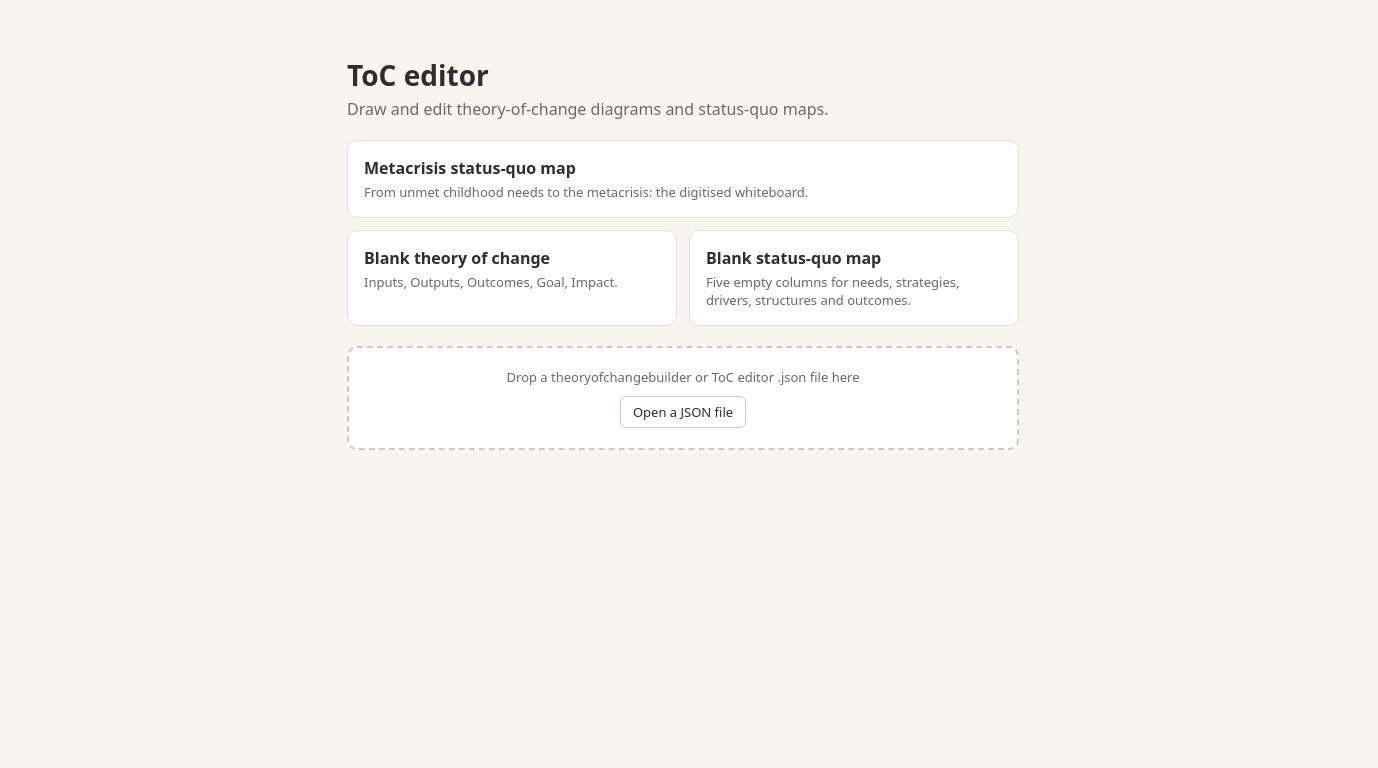
Test case: App: home and editor › leaving the editor shows the edit just made as the draft, and restore brings it back
What coordinates should you click on to do the following:
click the button "Blank theory of change"
I would click on:
 (512, 278)
Its box is [347,230,677,326].
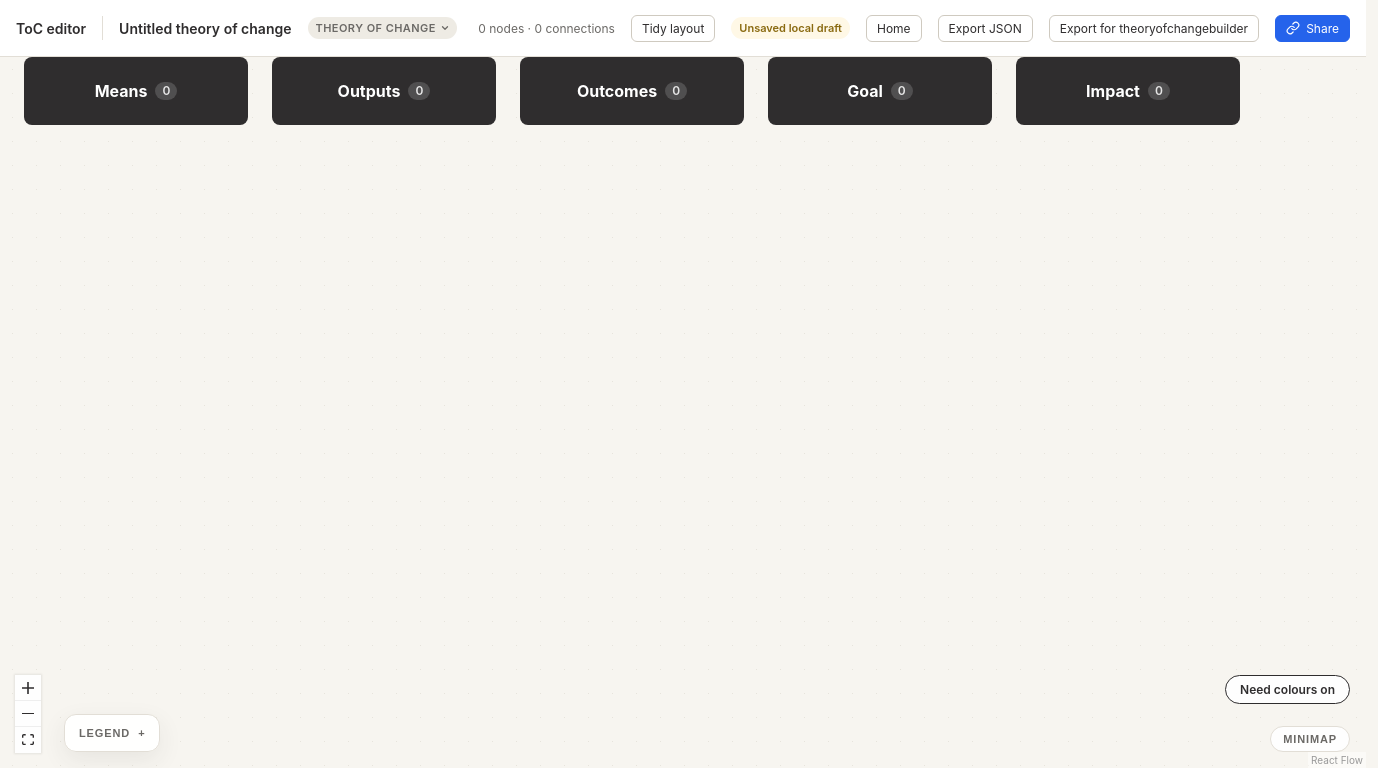
What coordinates should you click on to do the following:
click the button "Home"
I would click on:
 (894, 28)
Its box is [866,14,922,42].
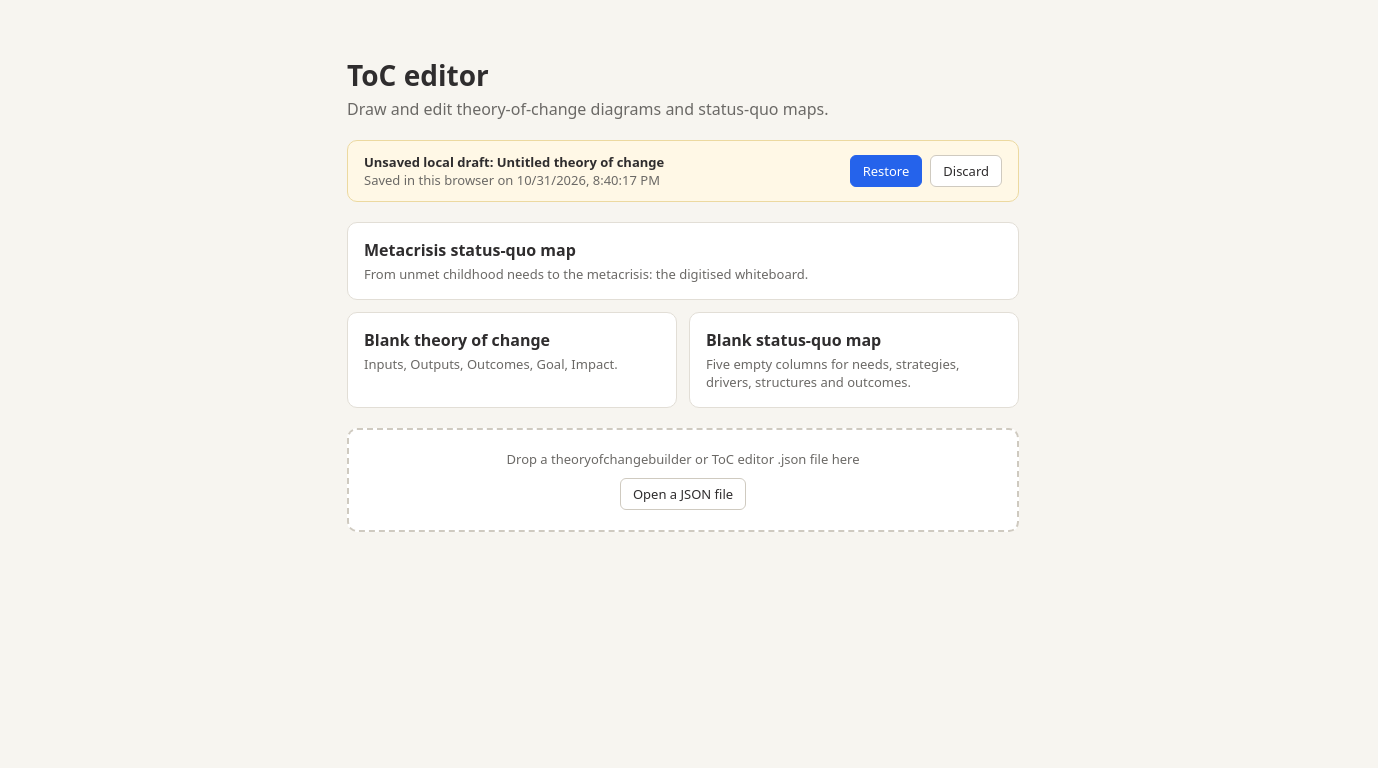
Expected: the text "Unsaved local draft: Untitled theory of change" is shown, [364,153,664,171]
What coordinates should you click on to do the following:
click the button "Restore"
I would click on:
 (886, 171)
Its box is [850,155,922,187].
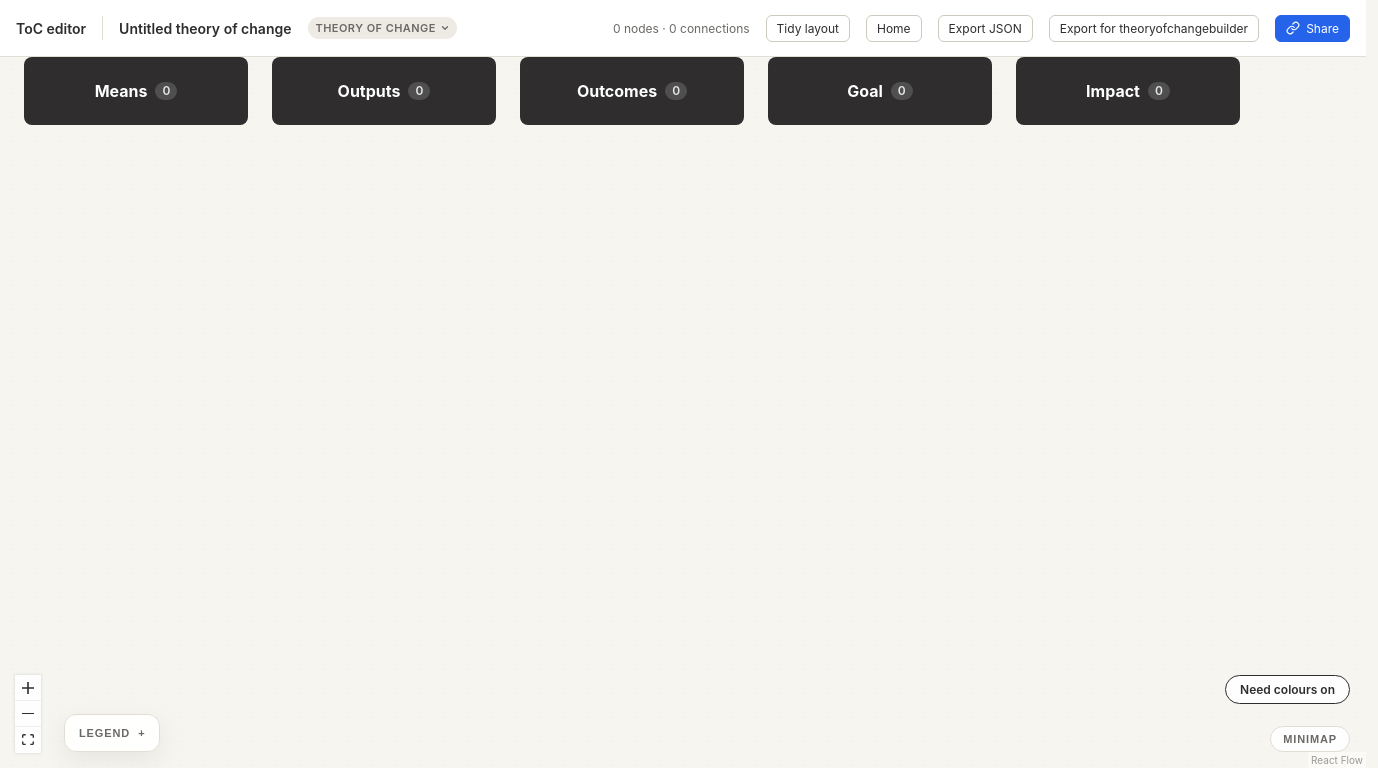
Expected: the text "Means" is shown, [95,82,147,100]
